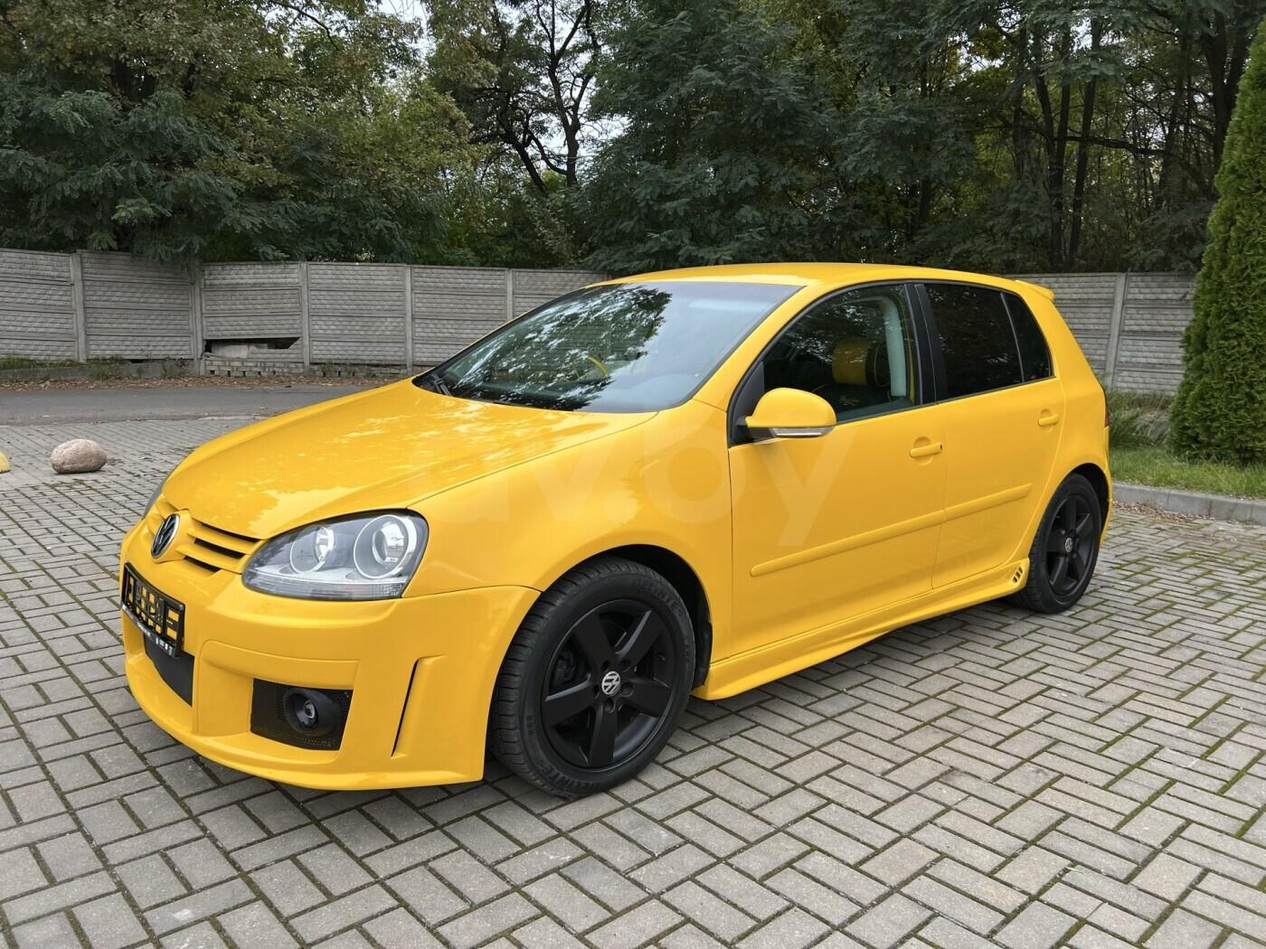Golf_2003-2009: (114, 259, 1116, 804)
